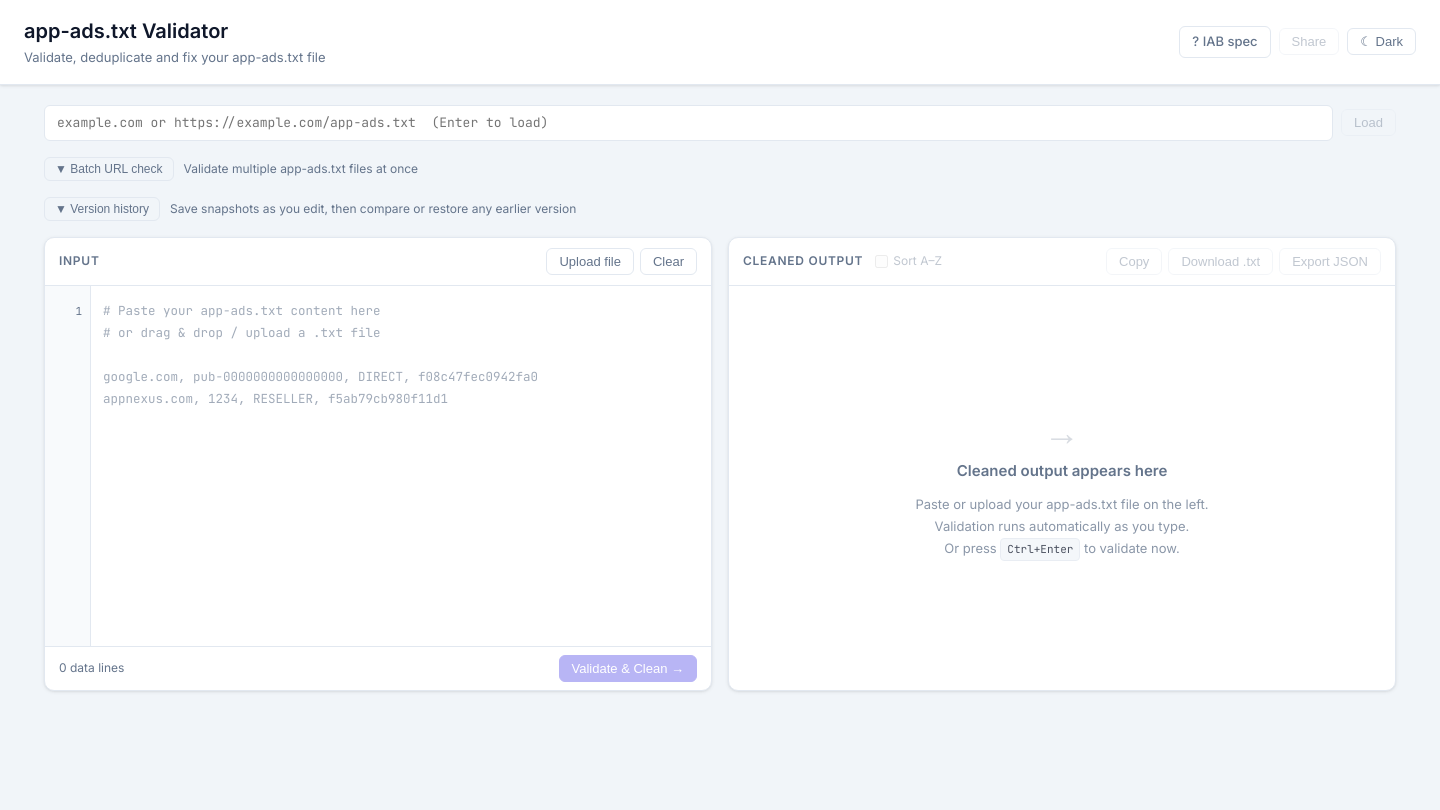
Test: App › does not let a pending debounced validation repopulate the output after Clear
Replace the text in the text box named "app-ads.txt input" with "google.com, pub-1, DIRECT" at [401, 466], box x1=91 y1=286 x2=711 y2=646
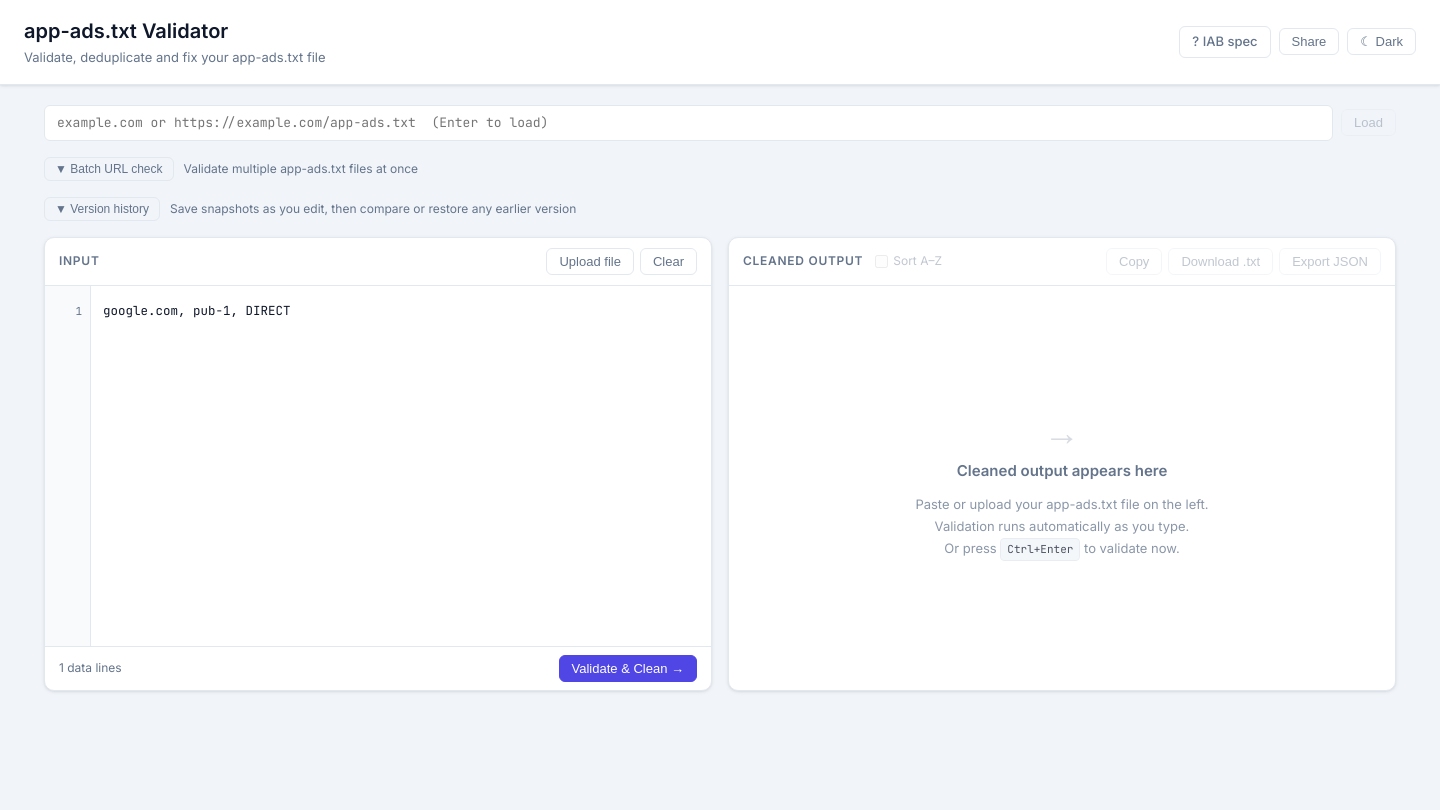
Click the button "Clear".
click(668, 261)  # box x1=640 y1=248 x2=697 y2=274
Wait 300 ms
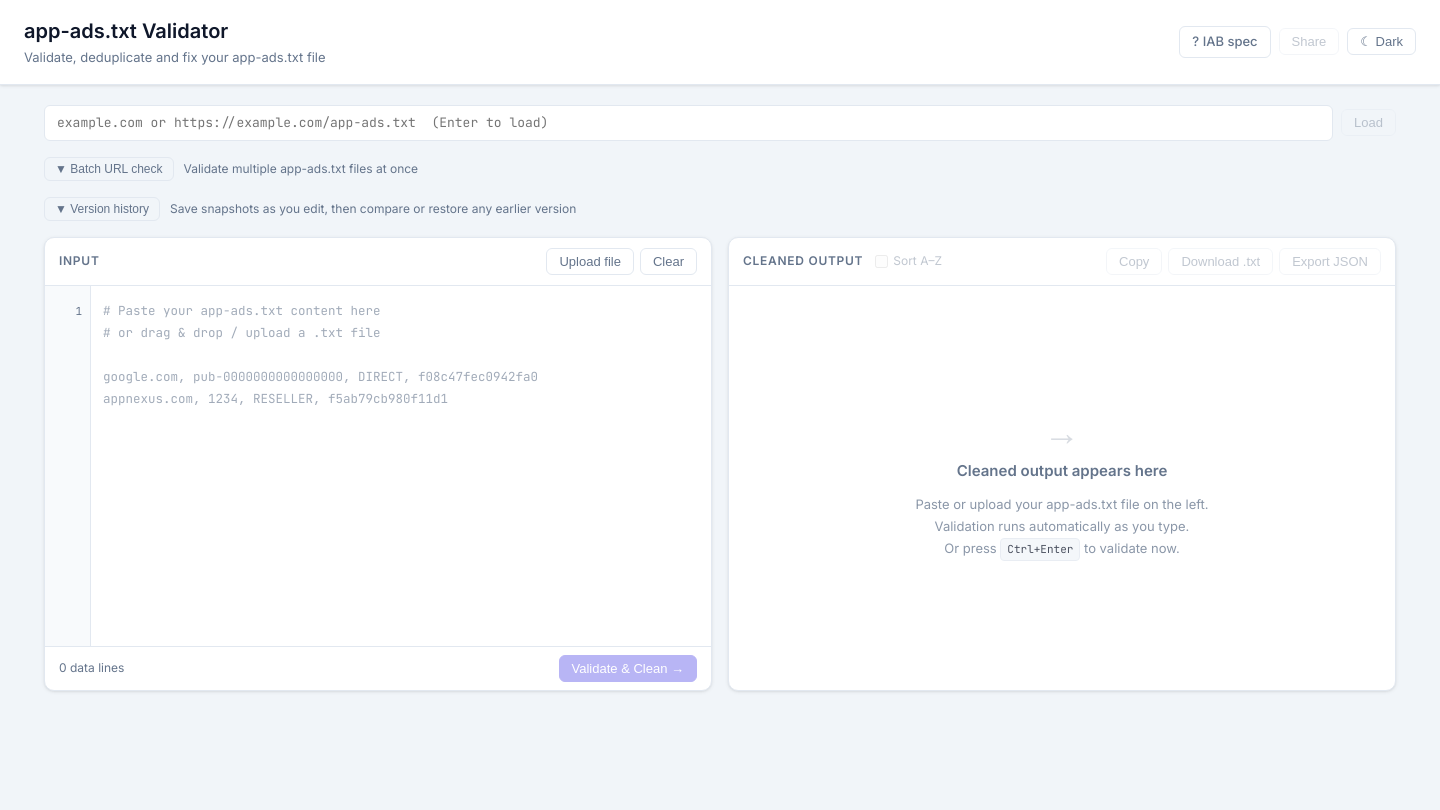
expect the text "Cleaned output appears here" is shown: met, box x1=957 y1=460 x2=1167 y2=483
expect the text box named "app-ads.txt input" is empty: met, box x1=91 y1=286 x2=711 y2=646
